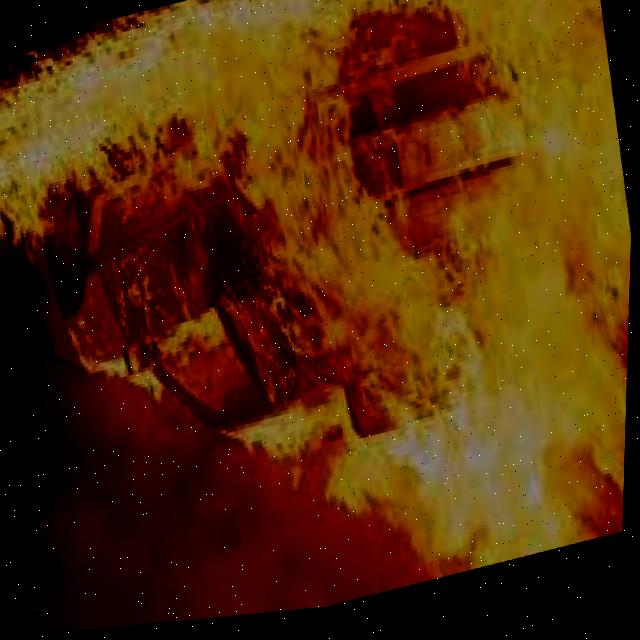Fire: (179, 33, 638, 625), (0, 0, 626, 305)
